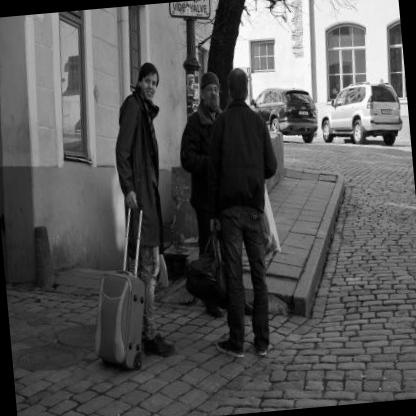car: (311, 72, 407, 161), (246, 80, 321, 144)
